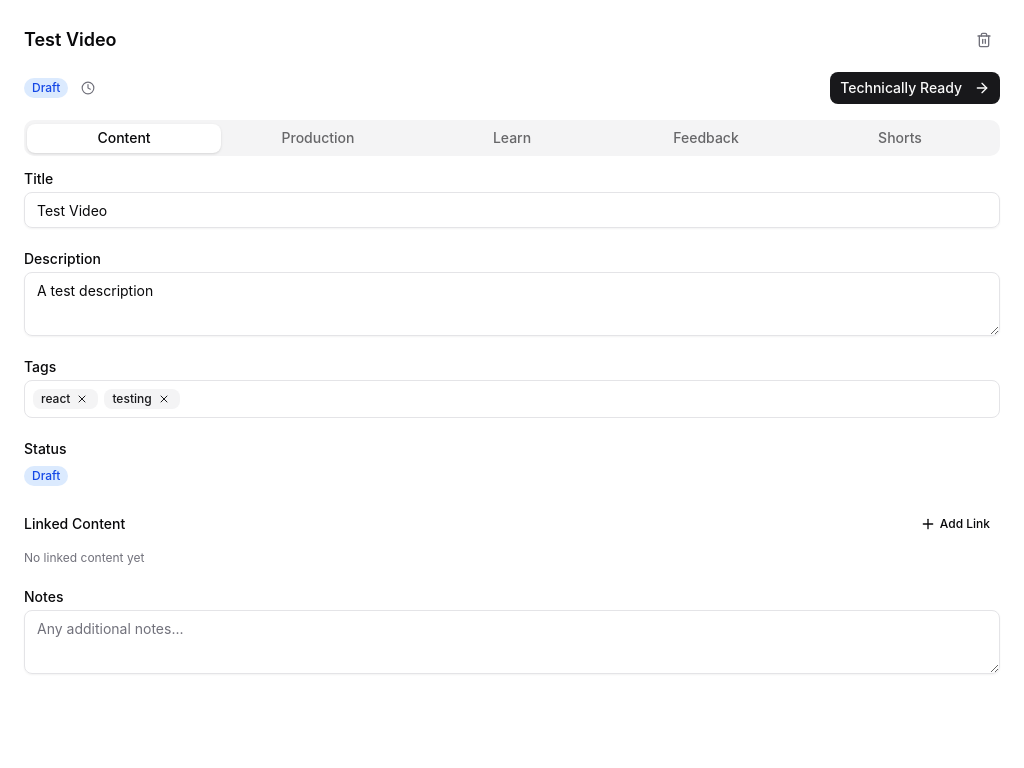
Scenario: DetailPanel › shows delete confirmation dialog on delete button click
Click the 1st button.
click(984, 40)  # box [968,24,1000,56]
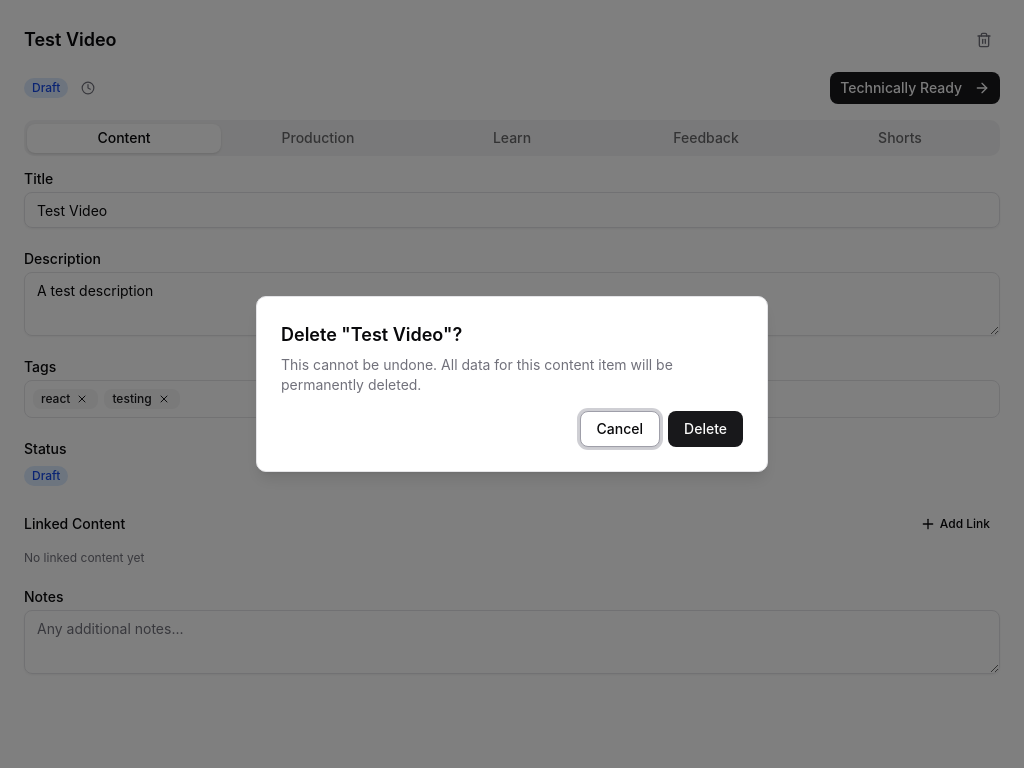
Expected: the heading "Delete \"Test Video\"?" is shown, [281,321,462,349]
Expected: the text "This cannot be undone" is shown, [281,356,673,393]
